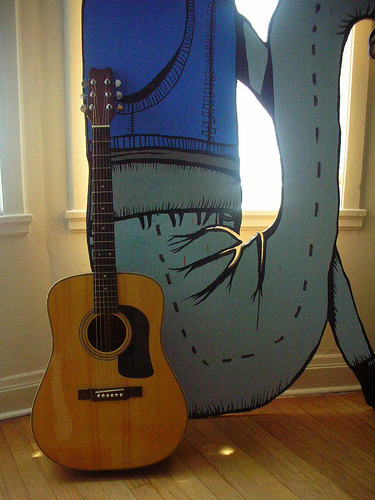guitar: (30, 66, 191, 475)
